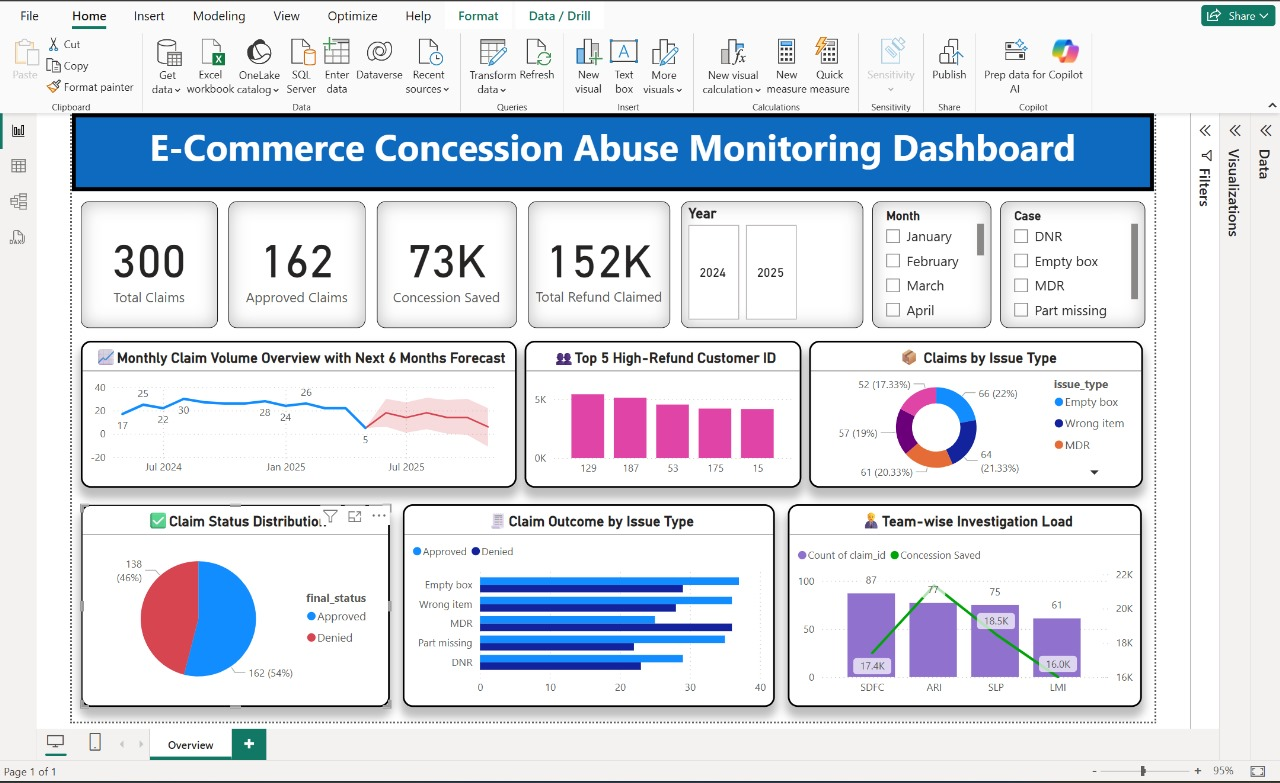

Layout of this report page (visuals, bound fields, positions):
{"tool":"powerbi","page":{"name":"Overview","canvas":[1280,720],"ordinal":0},"visuals":[{"type":"donutChart","title":"📦 Claims by Issue Type\t","fields":{"Y":["CountNonNull(Enhanced_View - All Data.issue_type)"],"Category":["Enhanced_View - All Data.issue_type"]},"box":[871.3,269,394.4,174.3],"z":0},{"type":"card","fields":{"Values":["Enhanced_View - All Data.TotalClaims"]},"box":[10.7,103.9,162,149.8],"z":1000},{"type":"card","fields":{"Values":["Enhanced_View - All Data.ApprovedClaims"]},"box":[185,103.9,162,149.8],"z":2000},{"type":"card","fields":{"Values":["Enhanced_View - All Data.ConcessionSaved"]},"box":[360.8,103.9,165.1,149.8],"z":3000},{"type":"card","fields":{"Values":["Enhanced_View - All Data.TotalRefundClaimed"]},"box":[539.6,103.9,168.2,149.8],"z":4000},{"type":"lineChart","title":"📈Monthly Claim Volume Overview with Next 6 Months Forecast","fields":{"Category":["Enhanced_View - All Data.claim_date.Variation.Date Hierarchy.Year","Enhanced_View - All Data.claim_date.Variation.Date Hierarchy.Month"],"Y":["CountNonNull(Enhanced_View - All Data.claim_id)"]},"box":[10.7,269,515.2,174.3],"z":5000},{"type":"clusteredBarChart","title":"🧾Claim Outcome by Issue Type","fields":{"Category":["Enhanced_View - All Data.issue_type"],"Series":["Enhanced_View - All Data.final_status"],"Y":["CountNonNull(Enhanced_View - All Data.claim_id)"]},"box":[391.3,463.2,440.3,240],"z":6000},{"type":"columnChart","title":"👥Top 5 High-Refund Customer ID","fields":{"Category":["Enhanced_View - All Data.customer_id"],"Y":["Sum(Enhanced_View - All Data.Refund amount)"]},"box":[535,269,327.1,174.3],"z":7000},{"type":"lineClusteredColumnComboChart","title":"👨💼Team-wise Investigation Load","fields":{"Category":["Enhanced_View - All Data.responsible_team"],"Y":["CountNonNull(Enhanced_View - All Data.claim_id)"],"Y2":["Enhanced_View - All Data.ConcessionSaved"]},"box":[846.9,463.2,418.9,240],"z":8000},{"type":"pieChart","title":"✅Claim Status Distribution","fields":{"Y":["CountNonNull(Enhanced_View - All Data.final_status)"],"Category":["Enhanced_View - All Data.final_status"]},"box":[10.7,463.2,365.4,240],"z":9000},{"type":"textbox","title":"E-Commerce Concession Abuse Monitoring Dashboard","box":[0,0,1279.5,91.7],"z":10000},{"type":"slicer","fields":{"Values":["Enhanced_View - All Data.claim_date.Variation.Date Hierarchy.Month"]},"box":[946.2,103.9,140.6,149.8],"z":11000},{"type":"advancedSlicerVisual","fields":{"Values":["Enhanced_View - All Data.claim_date.Variation.Date Hierarchy.Year"]},"box":[720,103.9,215.5,149.8],"z":12000},{"type":"slicer","fields":{"Values":["Enhanced_View - All Data.issue_type"]},"box":[1097.6,103.9,171.2,149.8],"z":13000}]}

Visuals, with their boxes on the page's 1280x720 design canvas (x1, y1, x2, y2). These are canvas units, not pixel positions in the 1280x783 screenshot, which may show the page scaled, cropped or inside an application window:
"📦 Claims by Issue Type	" donutChart: crop(871, 269, 1266, 443)
card - Enhanced_View - All Data.TotalClaims: crop(11, 104, 173, 254)
card - Enhanced_View - All Data.ApprovedClaims: crop(185, 104, 347, 254)
card - Enhanced_View - All Data.ConcessionSaved: crop(361, 104, 526, 254)
card - Enhanced_View - All Data.TotalRefundClaimed: crop(540, 104, 708, 254)
"📈Monthly Claim Volume Overview with Next 6 Months Forecast" lineChart: crop(11, 269, 526, 443)
"🧾Claim Outcome by Issue Type" clusteredBarChart: crop(391, 463, 832, 703)
"👥Top 5 High-Refund Customer ID" columnChart: crop(535, 269, 862, 443)
"👨💼Team-wise Investigation Load" lineClusteredColumnComboChart: crop(847, 463, 1266, 703)
"✅Claim Status Distribution" pieChart: crop(11, 463, 376, 703)
"E-Commerce Concession Abuse Monitoring Dashboard" textbox: crop(0, 0, 1280, 92)
slicer - Enhanced_View - All Data.claim_date.Variation.Date Hierarchy.Month: crop(946, 104, 1087, 254)
advancedSlicerVisual - Enhanced_View - All Data.claim_date.Variation.Date Hierarchy.Year: crop(720, 104, 936, 254)
slicer - Enhanced_View - All Data.issue_type: crop(1098, 104, 1269, 254)
